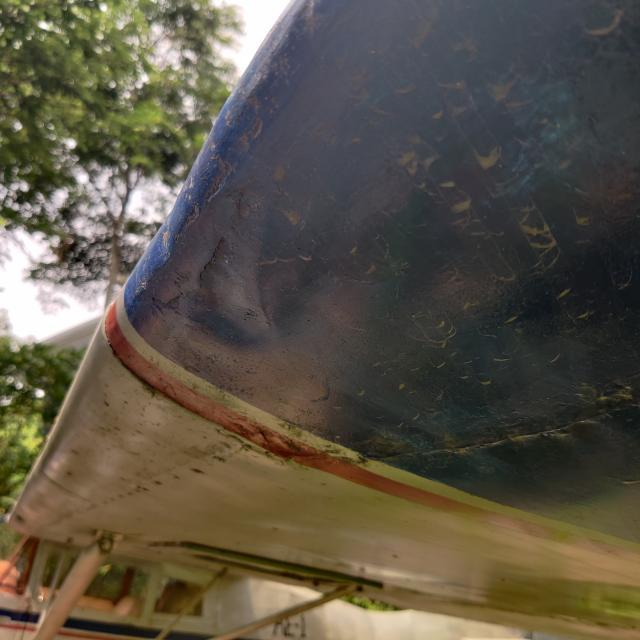dent: (158, 160, 369, 394)
